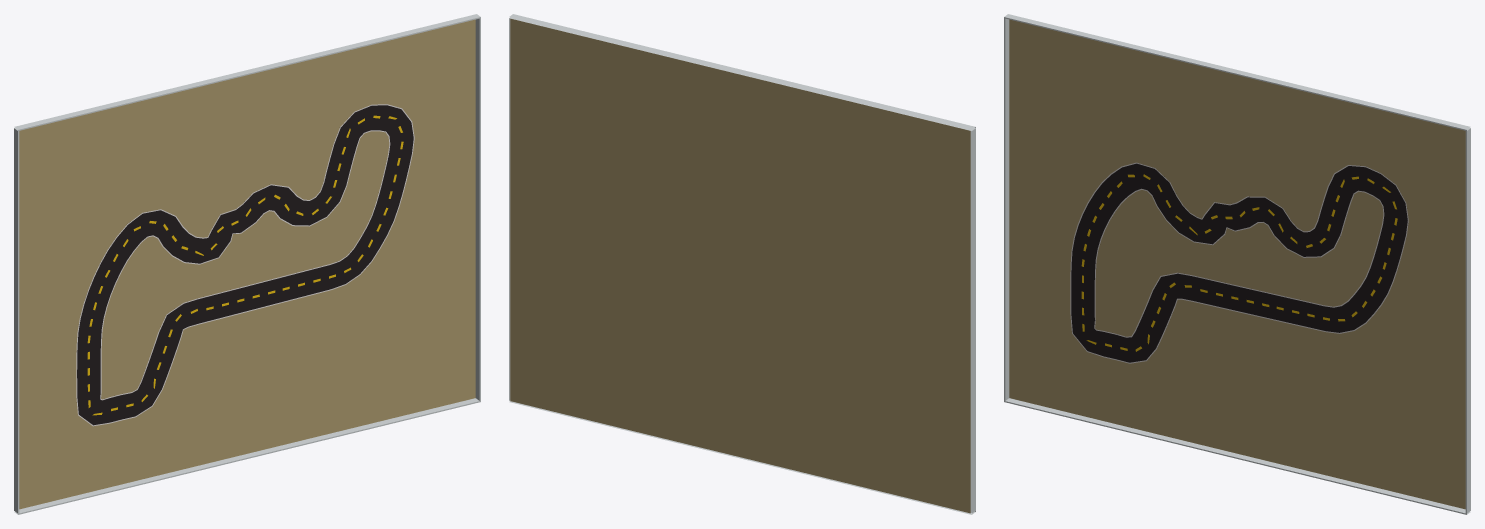
The model's file is track.obj.
The picture shows the model from 3 angles, left to right: view 1: azimuth 30°, elevation 25°; view 2: azimuth 150°, elevation 25°; view 3: azimuth 330°, elevation 25°; orthographic projection.
Size of the model in its own units: 19.49 by 15.5 by 0.3.
5 materials, 5 textured.
